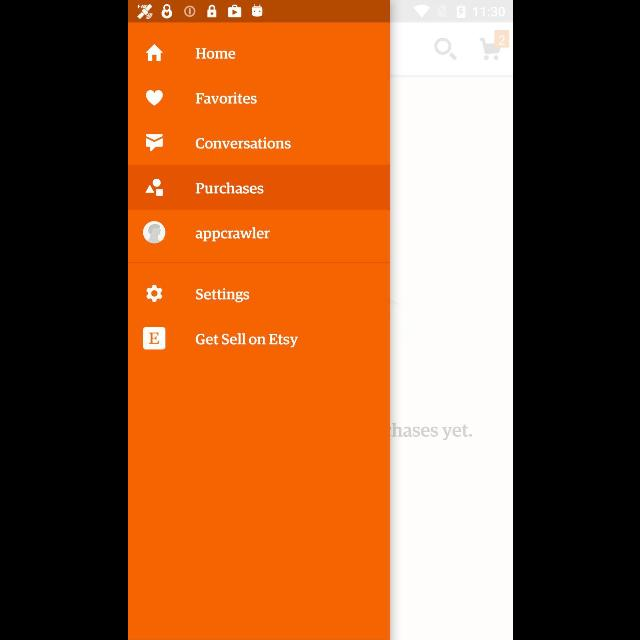icon: (142, 220, 166, 243), (146, 134, 162, 152), (146, 44, 162, 62), (146, 286, 162, 302), (146, 90, 162, 106)
image: (142, 326, 166, 349), (144, 178, 162, 196)
panel: (127, 22, 389, 640)
text: (195, 332, 298, 348), (194, 226, 270, 242), (195, 137, 291, 149), (195, 288, 249, 304), (194, 182, 264, 194), (194, 92, 256, 105), (194, 49, 236, 60)
uppertaskbar: (128, 1, 512, 23)
